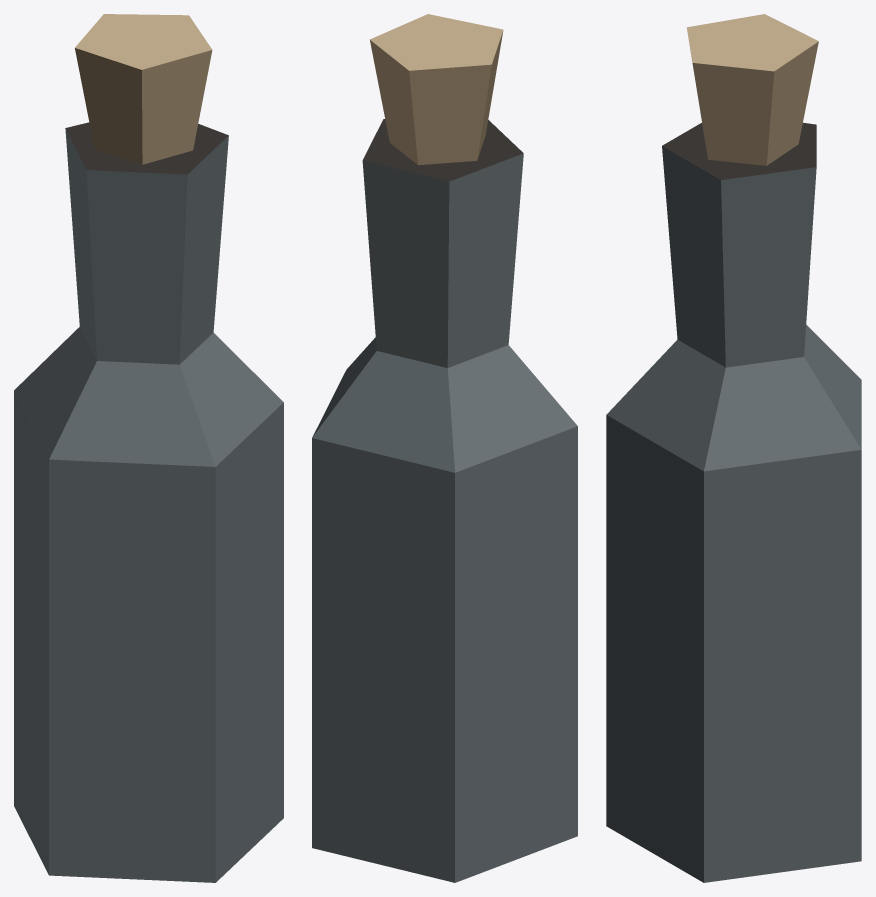
File: TB_D_Prop_Bottle_Tall_A.FBX
3 views of the same model, side by side, from view 1: azimuth 30°, elevation 25°; view 2: azimuth 150°, elevation 25°; view 3: azimuth 270°, elevation 25° (orthographic).
Parts seen in each view (by area): view 1: TB_D_Prop_Bottle_Tall_A; view 2: TB_D_Prop_Bottle_Tall_A; view 3: TB_D_Prop_Bottle_Tall_A.
Boxes of the visible parts, <box> form: TB_D_Prop_Bottle_Tall_A: <box>14,14,283,882</box>; TB_D_Prop_Bottle_Tall_A: <box>312,14,577,882</box>; TB_D_Prop_Bottle_Tall_A: <box>606,14,861,882</box>.
Bounding box in the file's own units: 0.2856 × 0.9197 × 0.2716.
